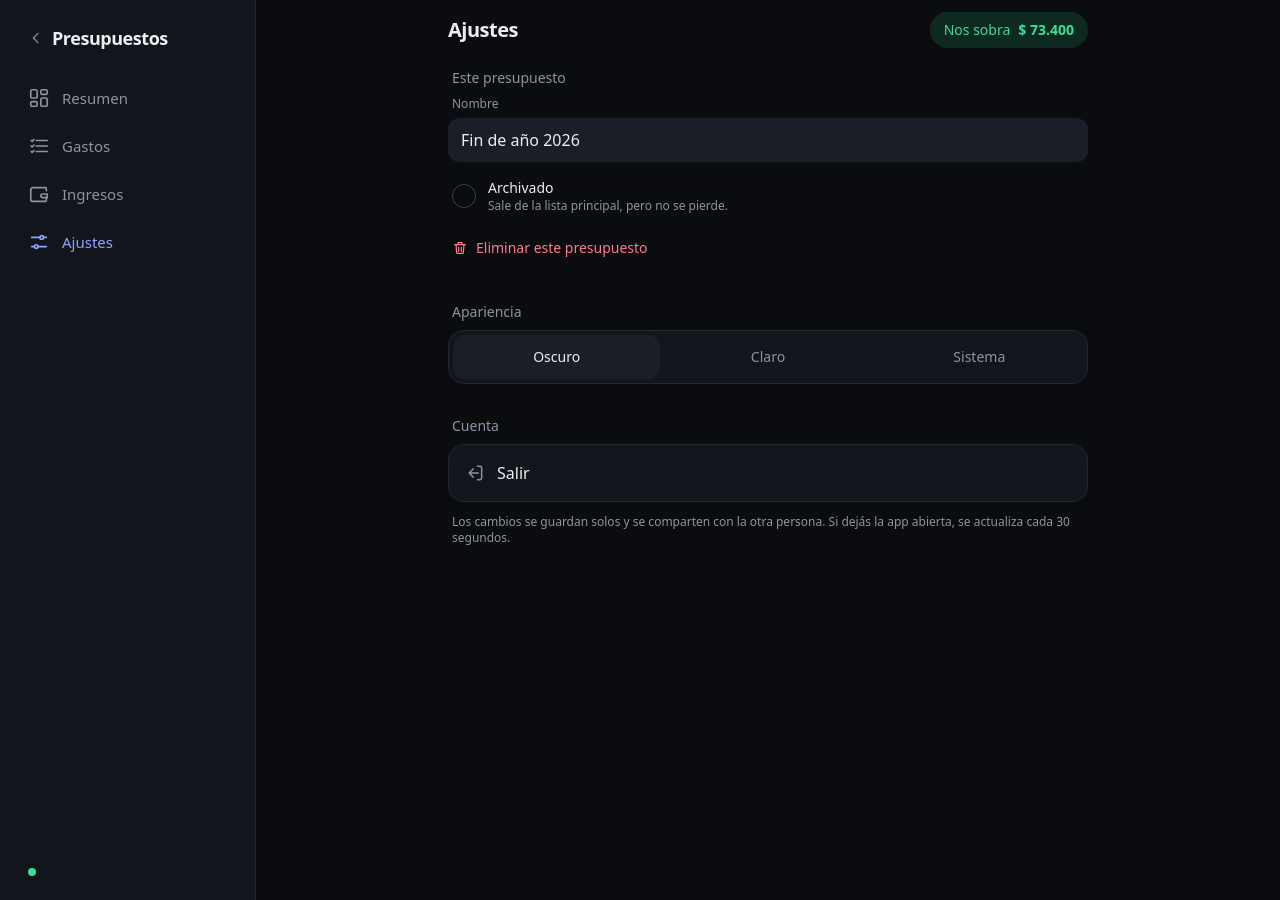
Test: ajustes de un presupuesto › si falla el borrado avisa y se queda
Check: the heading "Ajustes" is shown, box [448,16,518,43]
Click the button "Eliminar este presupuesto" at (550, 248), box [448,226,652,270]
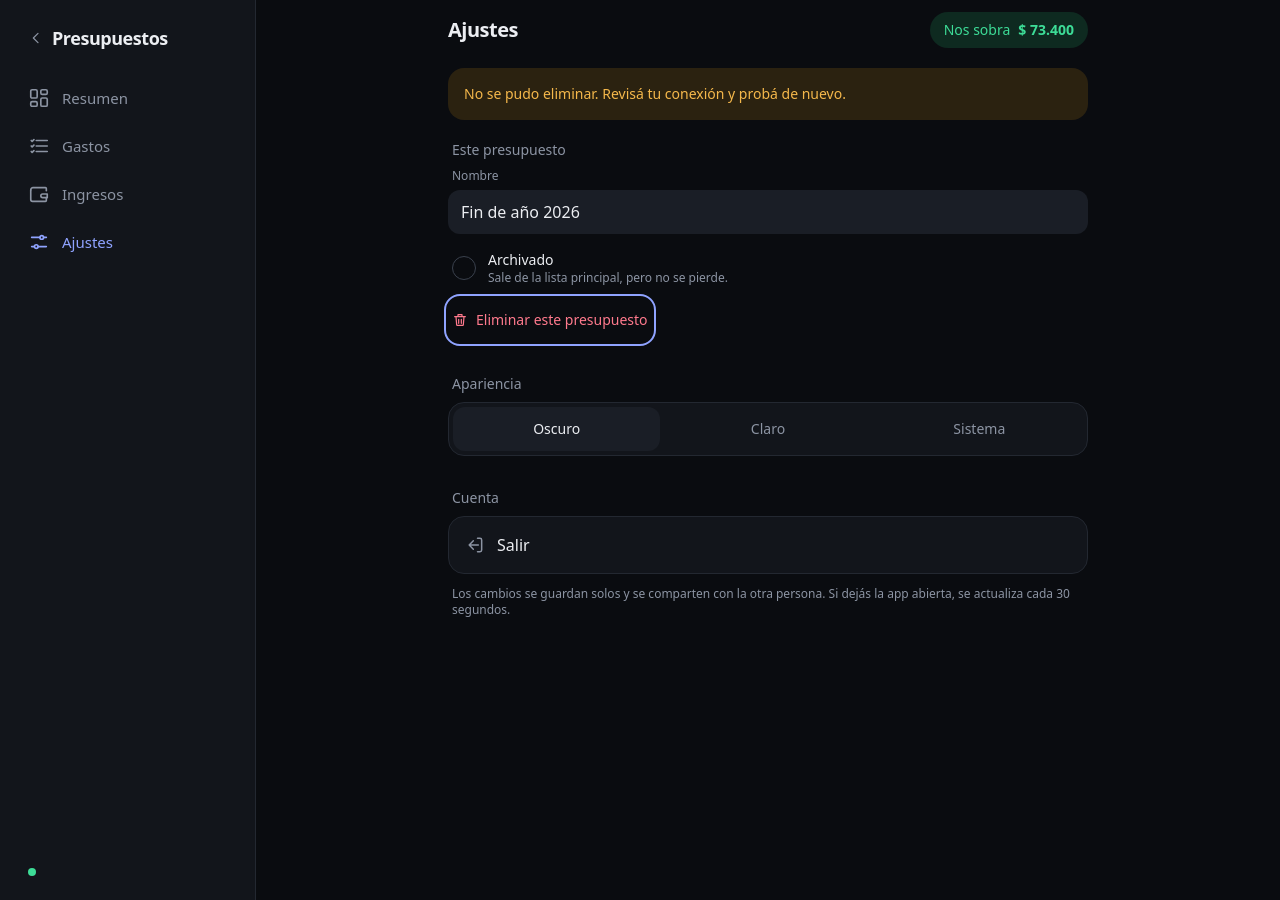
Check: the text "Ajustes" is shown, box [62,231,113,253]
Check: the message "No se pudo eliminar. Revisá tu conexión y probá de nuevo." is shown, box [448,68,1088,120]
